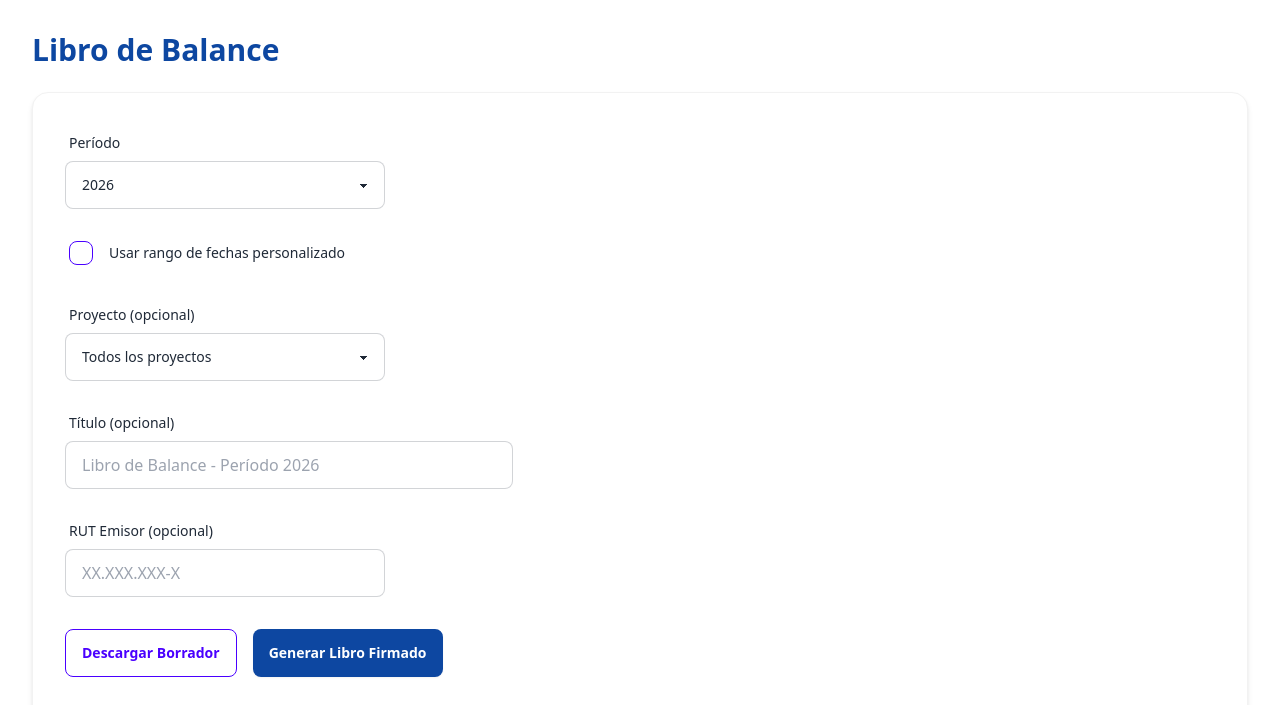
Test case: BalanceBook.vue › debe mostrar mensaje de error si la API falla
Click the button "Generar Libro Firmado".
click(348, 653)  # box [253,629,442,677]
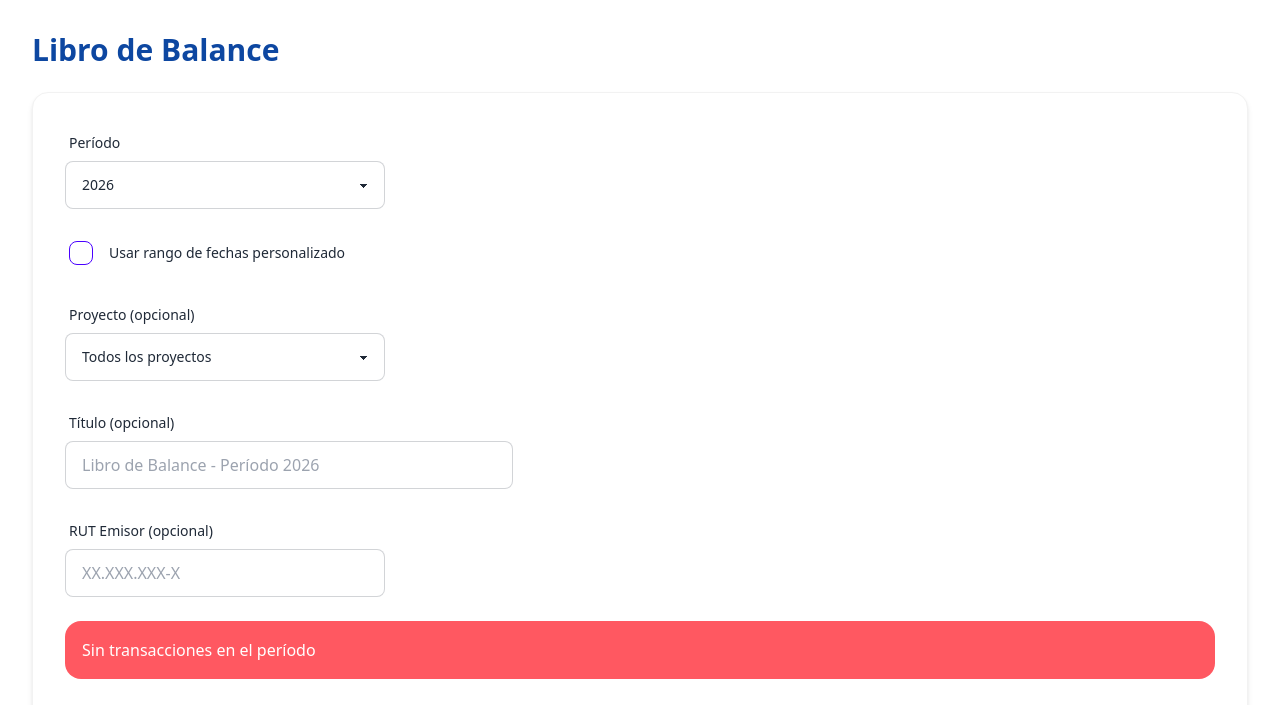
Expected: the element with class "alert-error" is shown, [65,621,1215,679]
Expected: the element with class "alert-error" reads "Sin transacciones en el período", [82,639,316,661]
